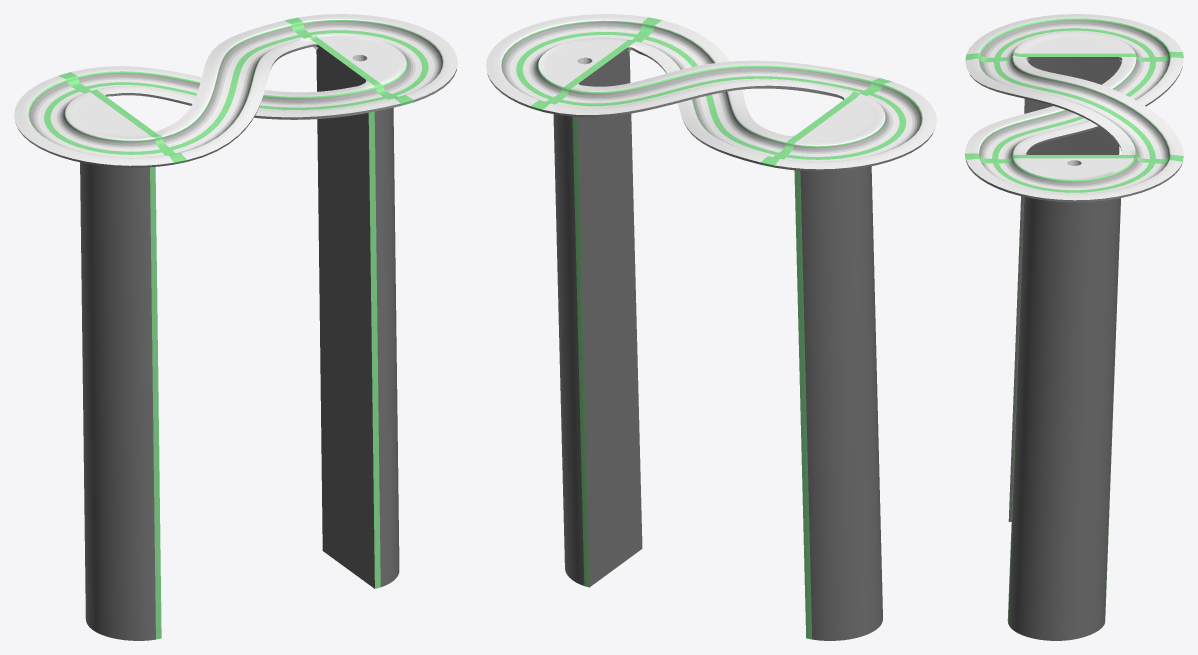
The model's file is intro_track.fbx.
3 renders of one model, left to right at view 1: azimuth 30°, elevation 25°; view 2: azimuth 150°, elevation 25°; view 3: azimuth 270°, elevation 25°, orthographic. The views are drawn at different scales.
Visible parts, largest first — view 1: inf_curve; view 2: inf_curve; view 3: inf_curve.
Part boxes in pixels (x1=…): inf_curve: x1=14, y1=14, x2=457, y2=640; inf_curve: x1=486, y1=14, x2=936, y2=640; inf_curve: x1=965, y1=14, x2=1183, y2=640.
Size of the model in its own units: 1145 by 1368 by 563.
